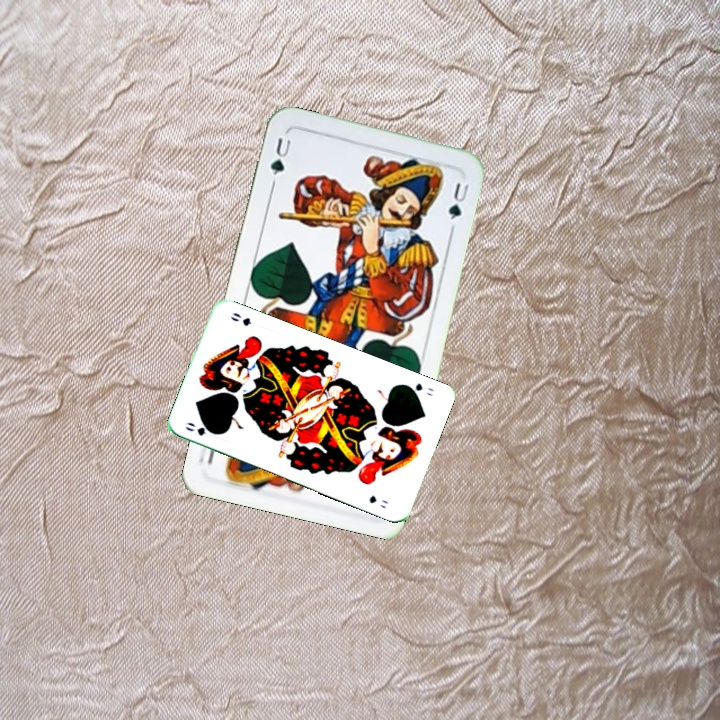GO: (181, 418, 222, 438), (400, 379, 437, 399)
GU: (266, 134, 294, 188)
